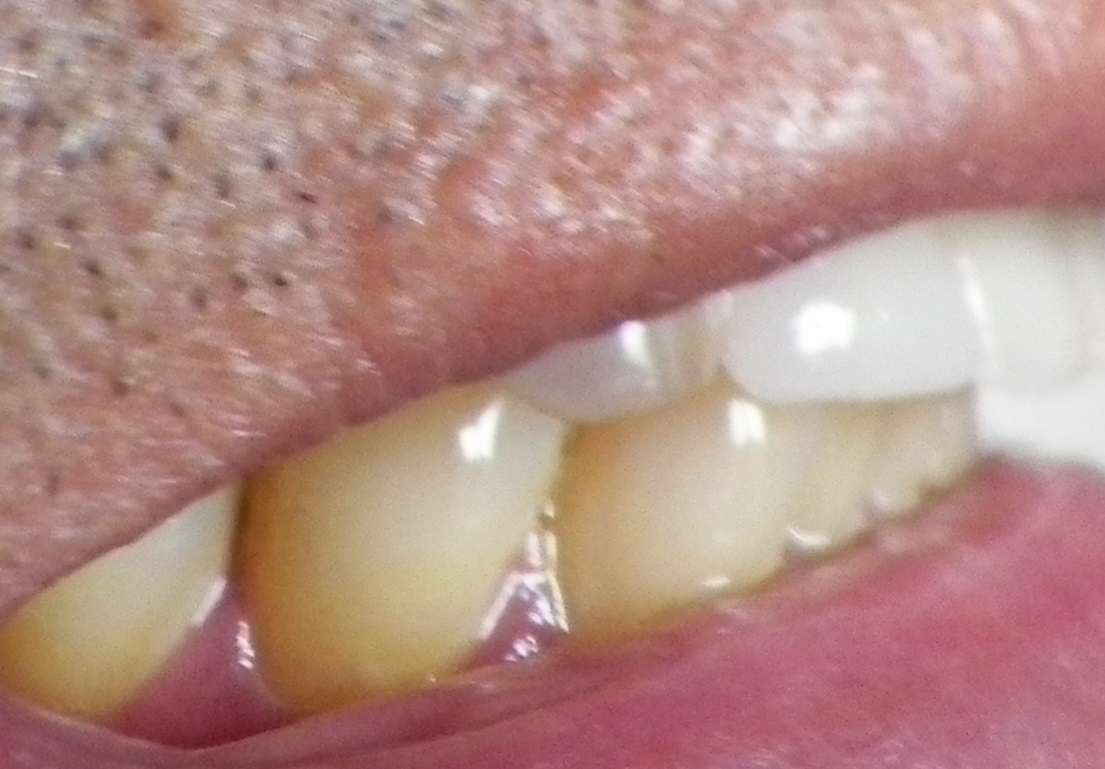boca: (4, 177, 982, 751)
